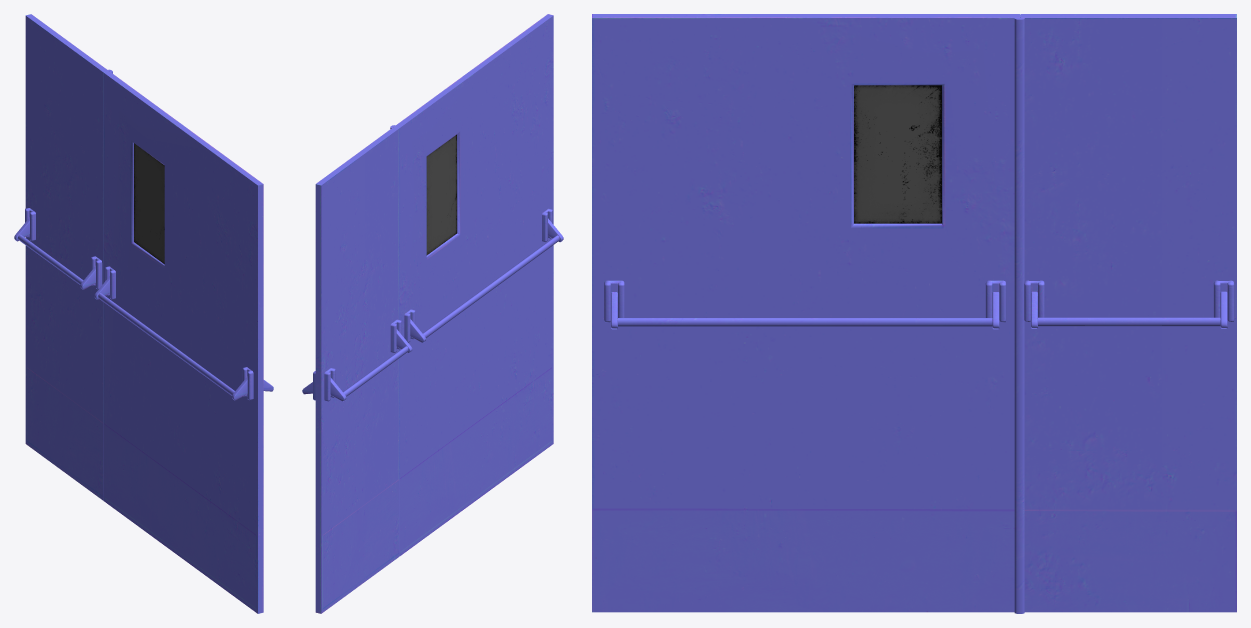
File: Door Double Type D.fbx
3 renders of one model, left to right at view 1: azimuth 30°, elevation 25°; view 2: azimuth 150°, elevation 25°; view 3: azimuth 270°, elevation 25°, orthographic. The views are drawn at different scales.
Visible parts, largest first — view 1: DMLeft, DMRight; view 2: DMLeft, DMRight; view 3: DMLeft, DMRight.
Boxes of the visible parts, <box> form: DMLeft: <box>94,69,273,613</box>; DMRight: <box>14,14,108,500</box>; DMLeft: <box>390,14,563,556</box>; DMRight: <box>302,127,412,613</box>; DMLeft: <box>592,14,1024,613</box>; DMRight: <box>1020,14,1236,612</box>.
Bounding box in the file's own units: 24.82 × 252 × 248.
